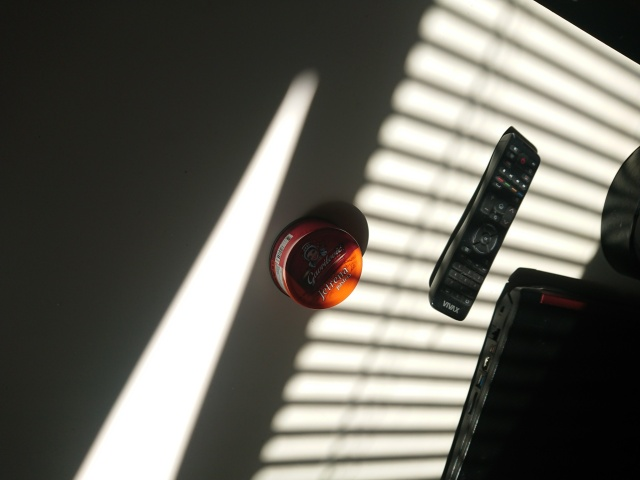Gavrilovic Pork Liver Pate 100g: (266, 213, 364, 312)
